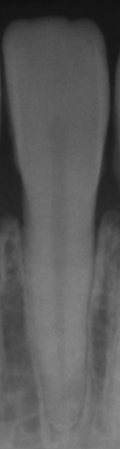tooth: (4, 23, 107, 427)
